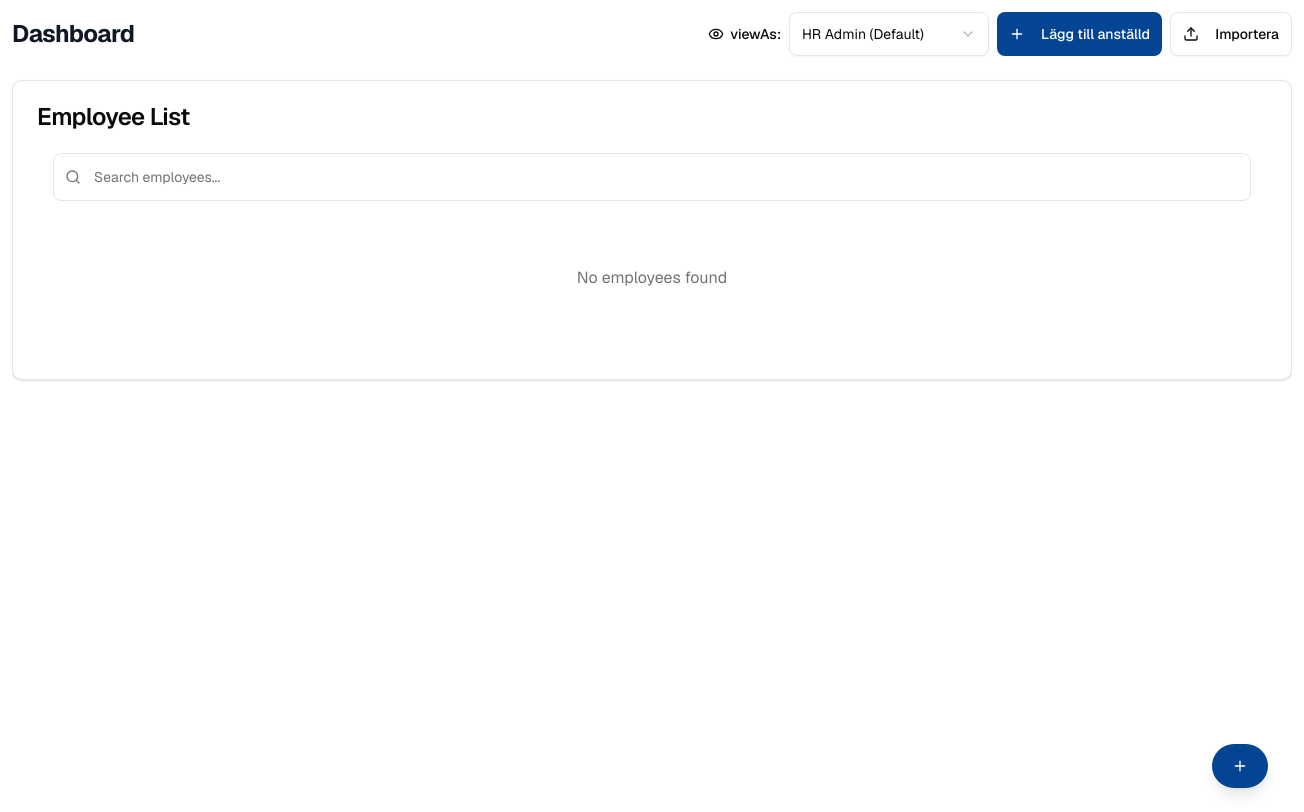
Test: Dashboard Mobile Button Tests (AC1) › AC1: FAB is visible on mobile (<1024px) and desktop buttons are hidden › should render Quick Search button in FAB menu
The width and height of the screenshot is (1304, 812).
Note: Open menu (click the button inside FAB)
Click the button named "Open quick actions menu". click: (1240, 766)
box: [1212,744,1268,788]
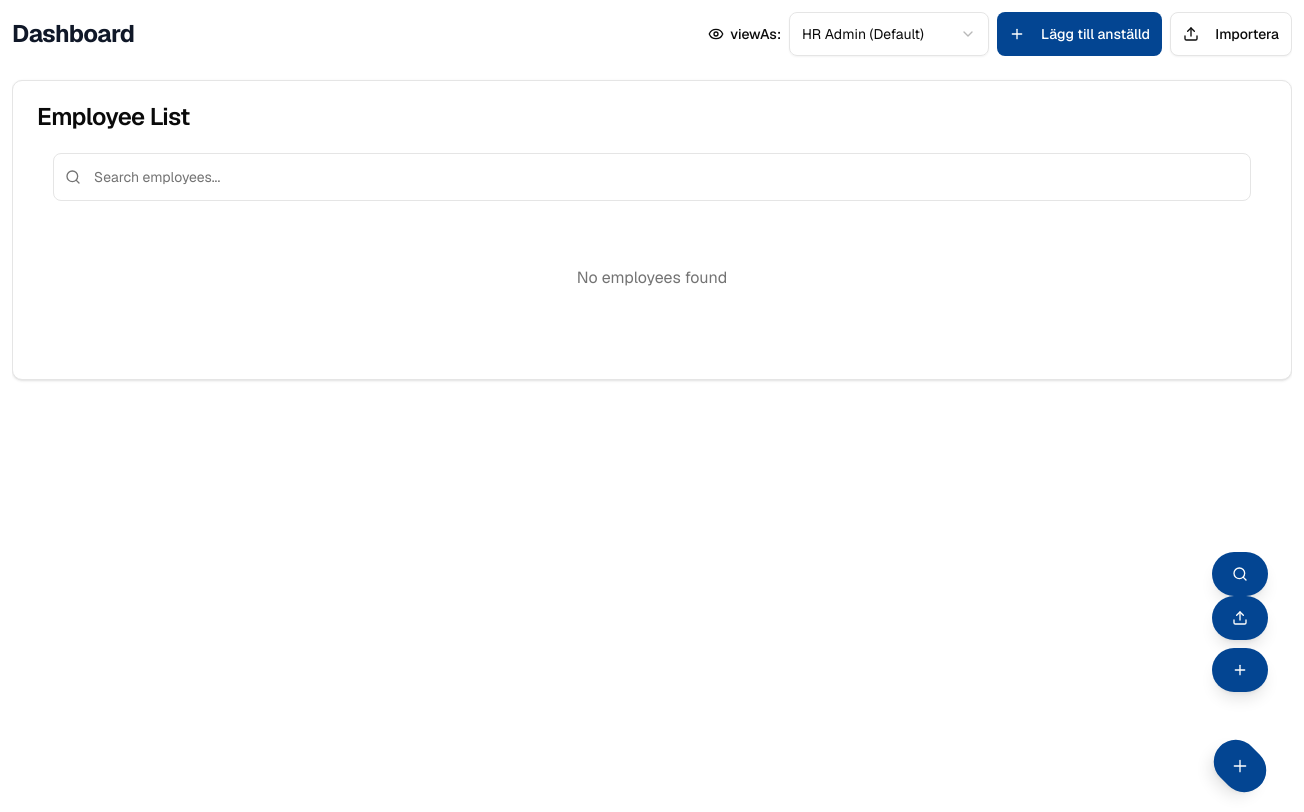
Now the button named "Quick Search" is shown, box [1212,552,1268,596]
